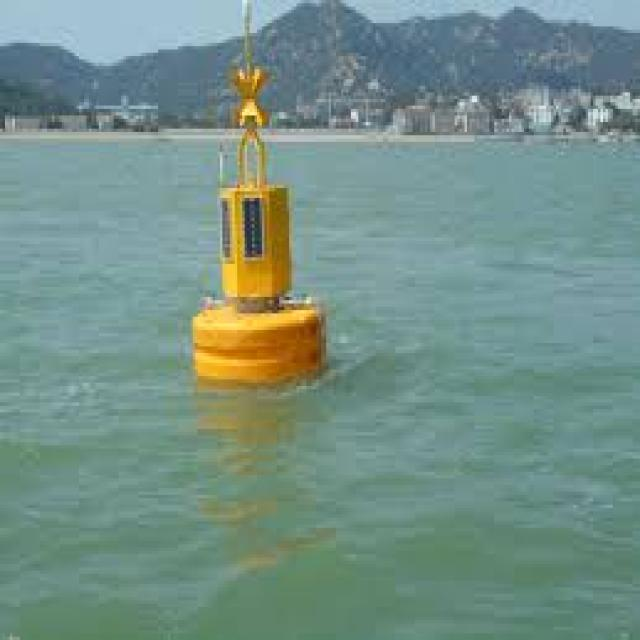2.5 sepcial mark: (178, 1, 338, 403)
